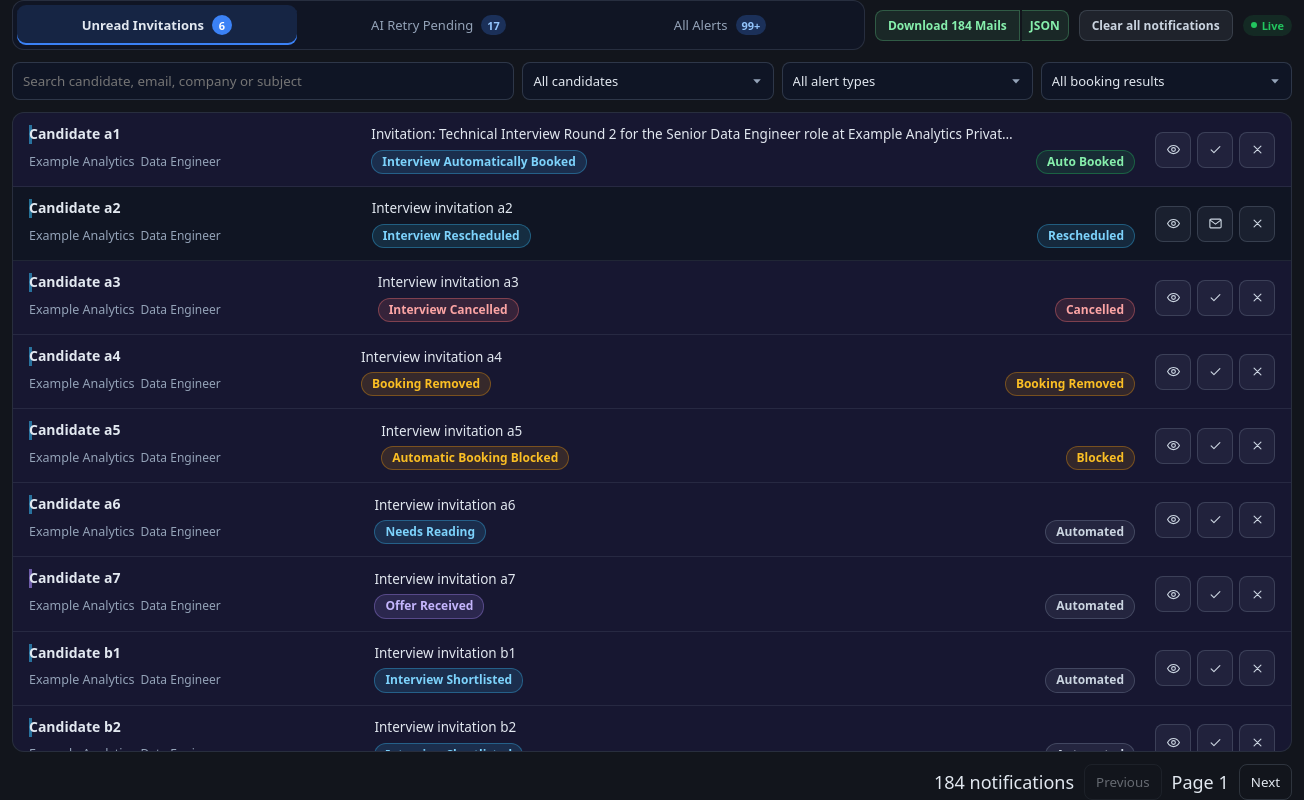
Scenario: an empty result › says no alert matches and clears the filters in one step
Step 1. Type "nobody" into the field named "Search notifications" → [263, 81], box [12, 62, 514, 100]
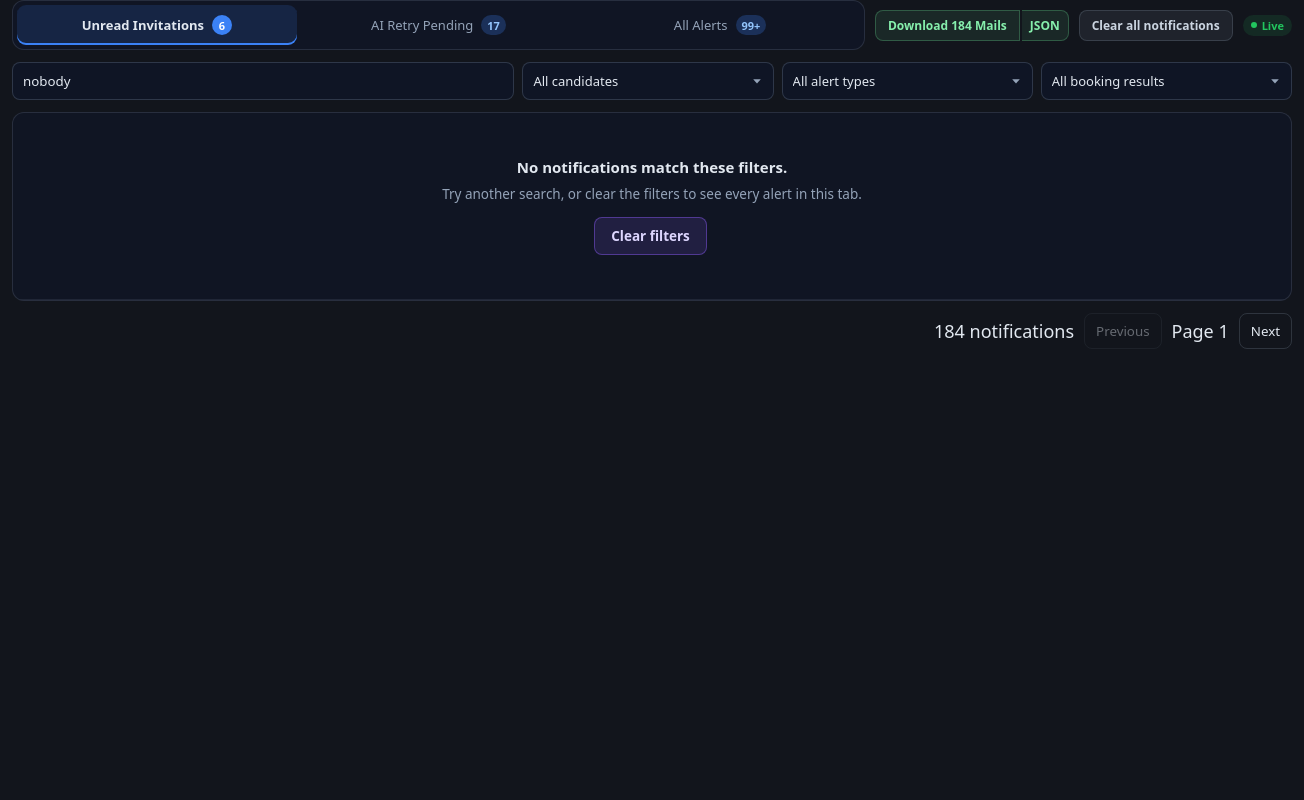
expect the text "No notifications match these filters." is shown: met, box [517, 157, 787, 177]
expect the text "Try another search, or clear the filters to see every alert in this tab." is shown: met, box [442, 185, 862, 205]
Step 2. Click the button "Clear filters" → [650, 236], box [594, 217, 707, 255]
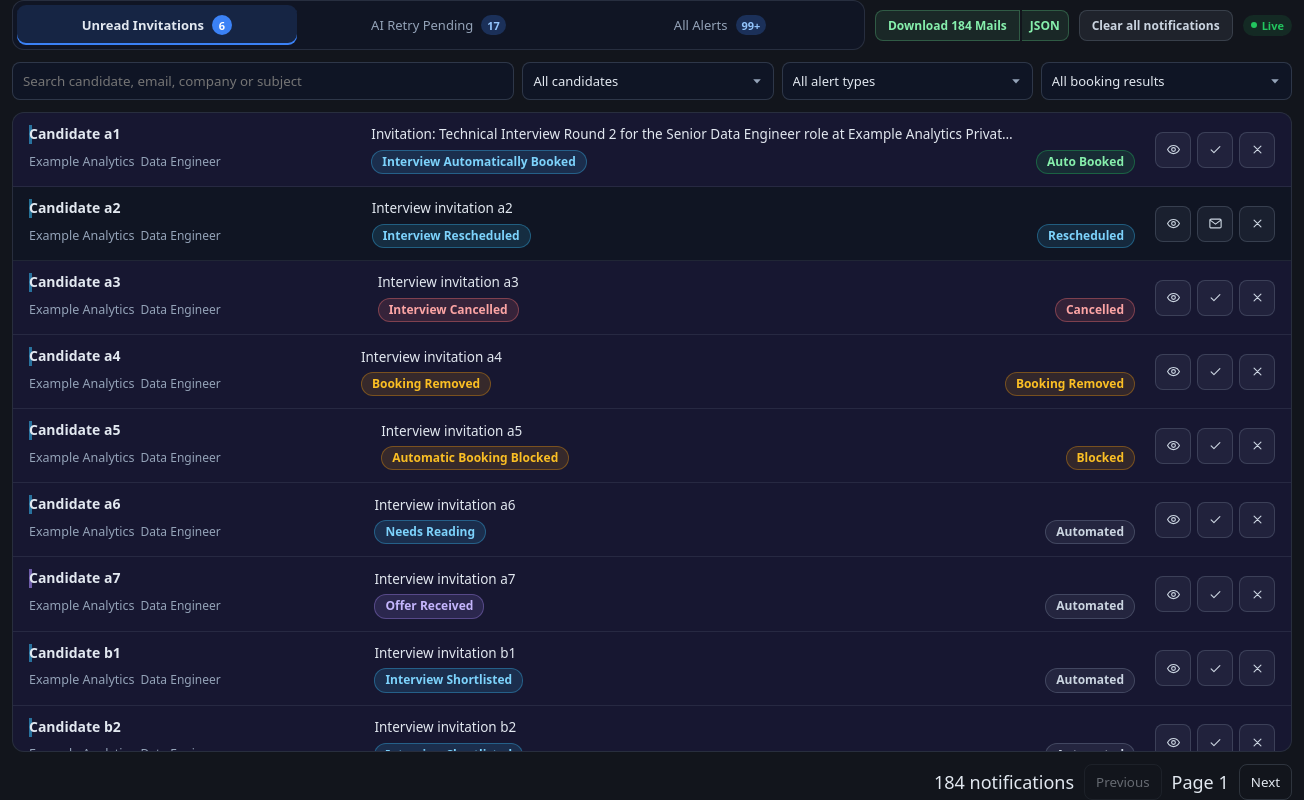
expect the field named "Search notifications" is empty: met, box [12, 62, 514, 100]
